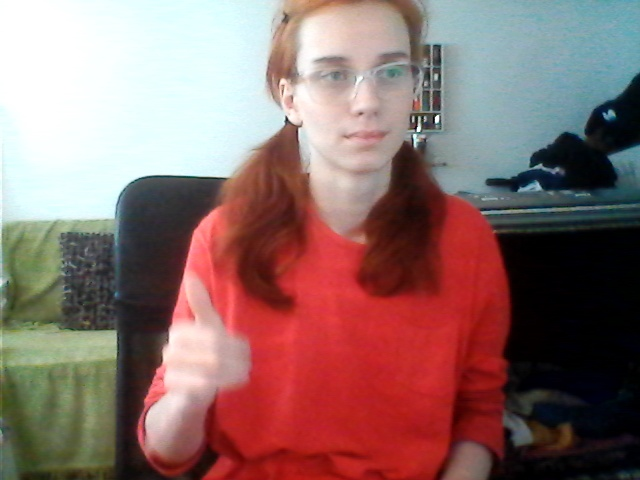ano: (141, 276, 270, 437)
